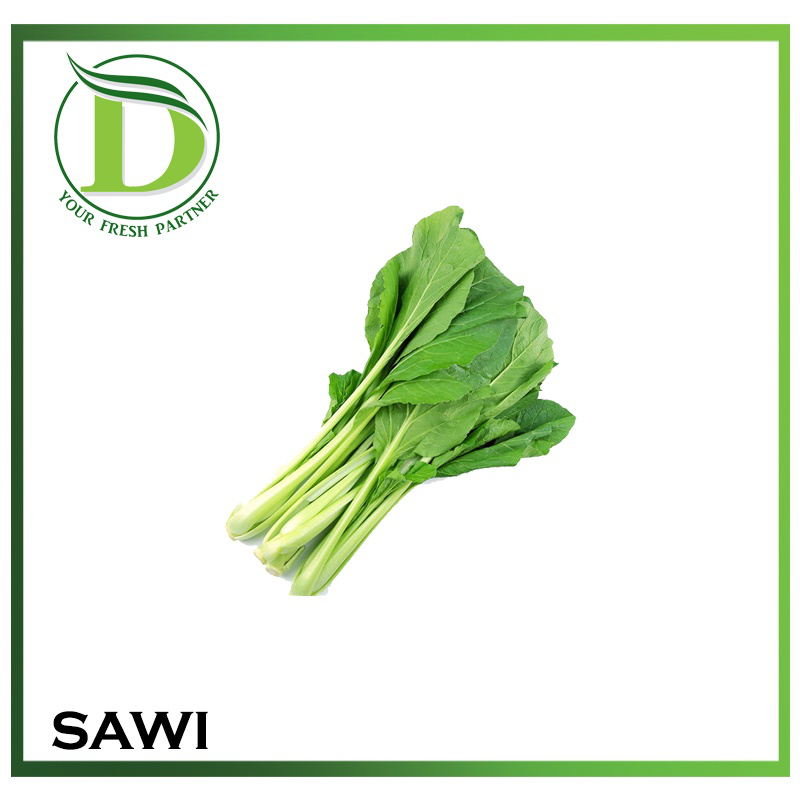Sawi: (223, 144, 580, 632)
